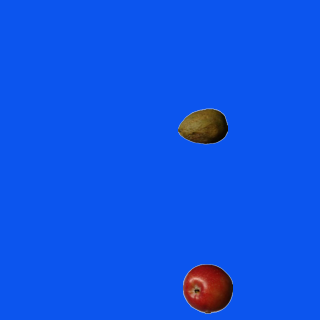Apple Braeburn: (182, 263, 232, 313)
Papaya: (177, 101, 227, 151)
